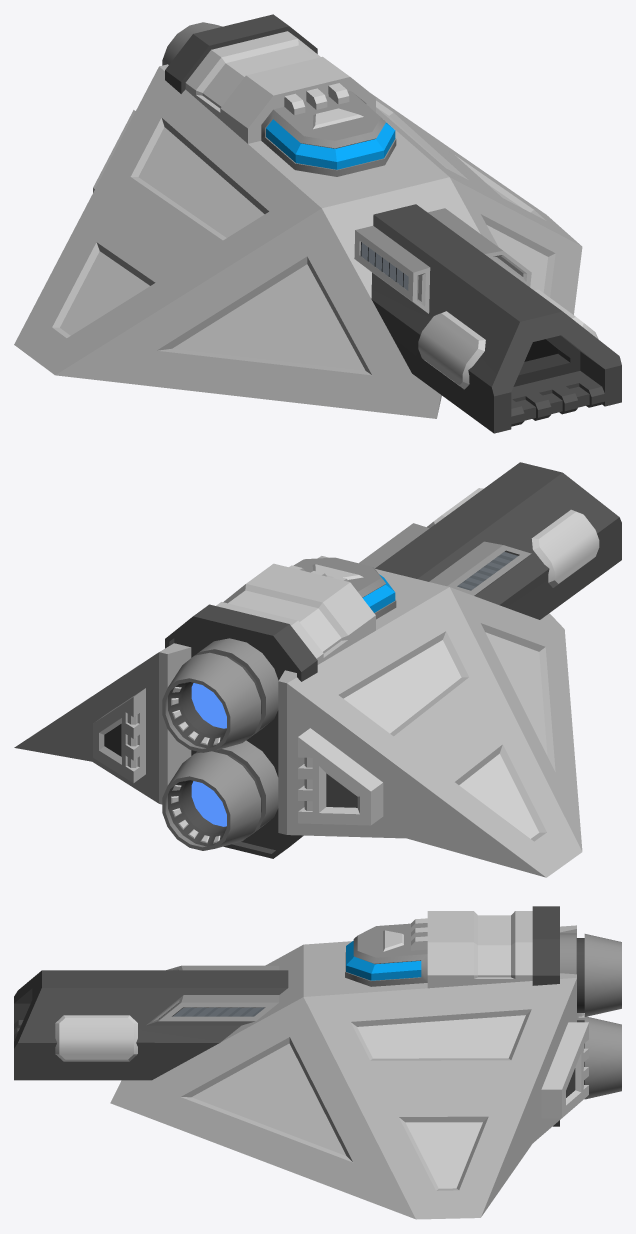
The model's file is Destroyer01.fbx.
3 views of the same model, one above another, from view 1: azimuth 30°, elevation 25°; view 2: azimuth 150°, elevation 25°; view 3: azimuth 270°, elevation 25° (orthographic). The views are drawn at different scales.
Visible parts, largest first — view 1: Mesh_HD; view 2: Mesh_HD; view 3: Mesh_HD.
Boxes of the visible parts, box(x1,y1,x2,y2) form: Mesh_HD: box(14, 14, 621, 433); Mesh_HD: box(14, 462, 621, 877); Mesh_HD: box(14, 906, 621, 1219).
Size of the model in its own units: 687 by 276 by 809.
